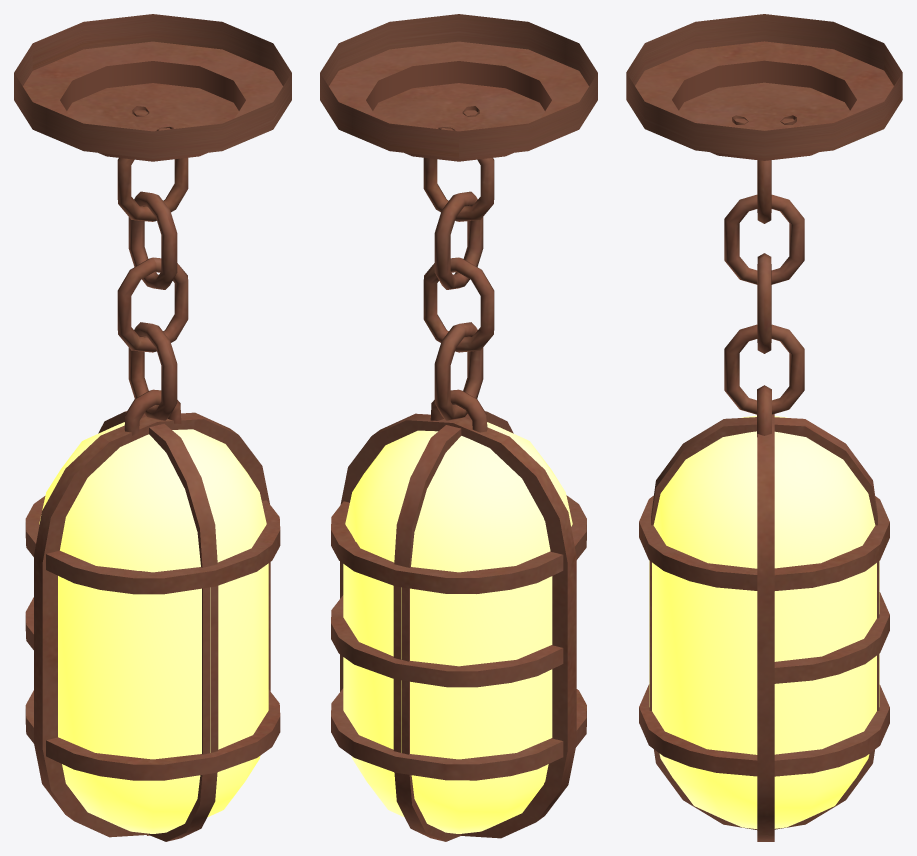
File: Marine_CeilingMounted_Chained_FullBulb_3Hor.fbx
3 views of the same model, side by side, from view 1: azimuth 30°, elevation 25°; view 2: azimuth 150°, elevation 25°; view 3: azimuth 270°, elevation 25° (orthographic).
Parts seen in each view (by area): view 1: Marine_CeilingMounted_Chained_FullBulb_3Hor; view 2: Marine_CeilingMounted_Chained_FullBulb_3Hor; view 3: Marine_CeilingMounted_Chained_FullBulb_3Hor.
Part boxes in pixels (x1,y1,x2,y2): Marine_CeilingMounted_Chained_FullBulb_3Hor: [14, 14, 291, 841]; Marine_CeilingMounted_Chained_FullBulb_3Hor: [320, 14, 597, 841]; Marine_CeilingMounted_Chained_FullBulb_3Hor: [626, 14, 902, 841].
Bounding box in the file's own units: 22.83 × 68.88 × 22.83.
2 materials, 1 textured.
